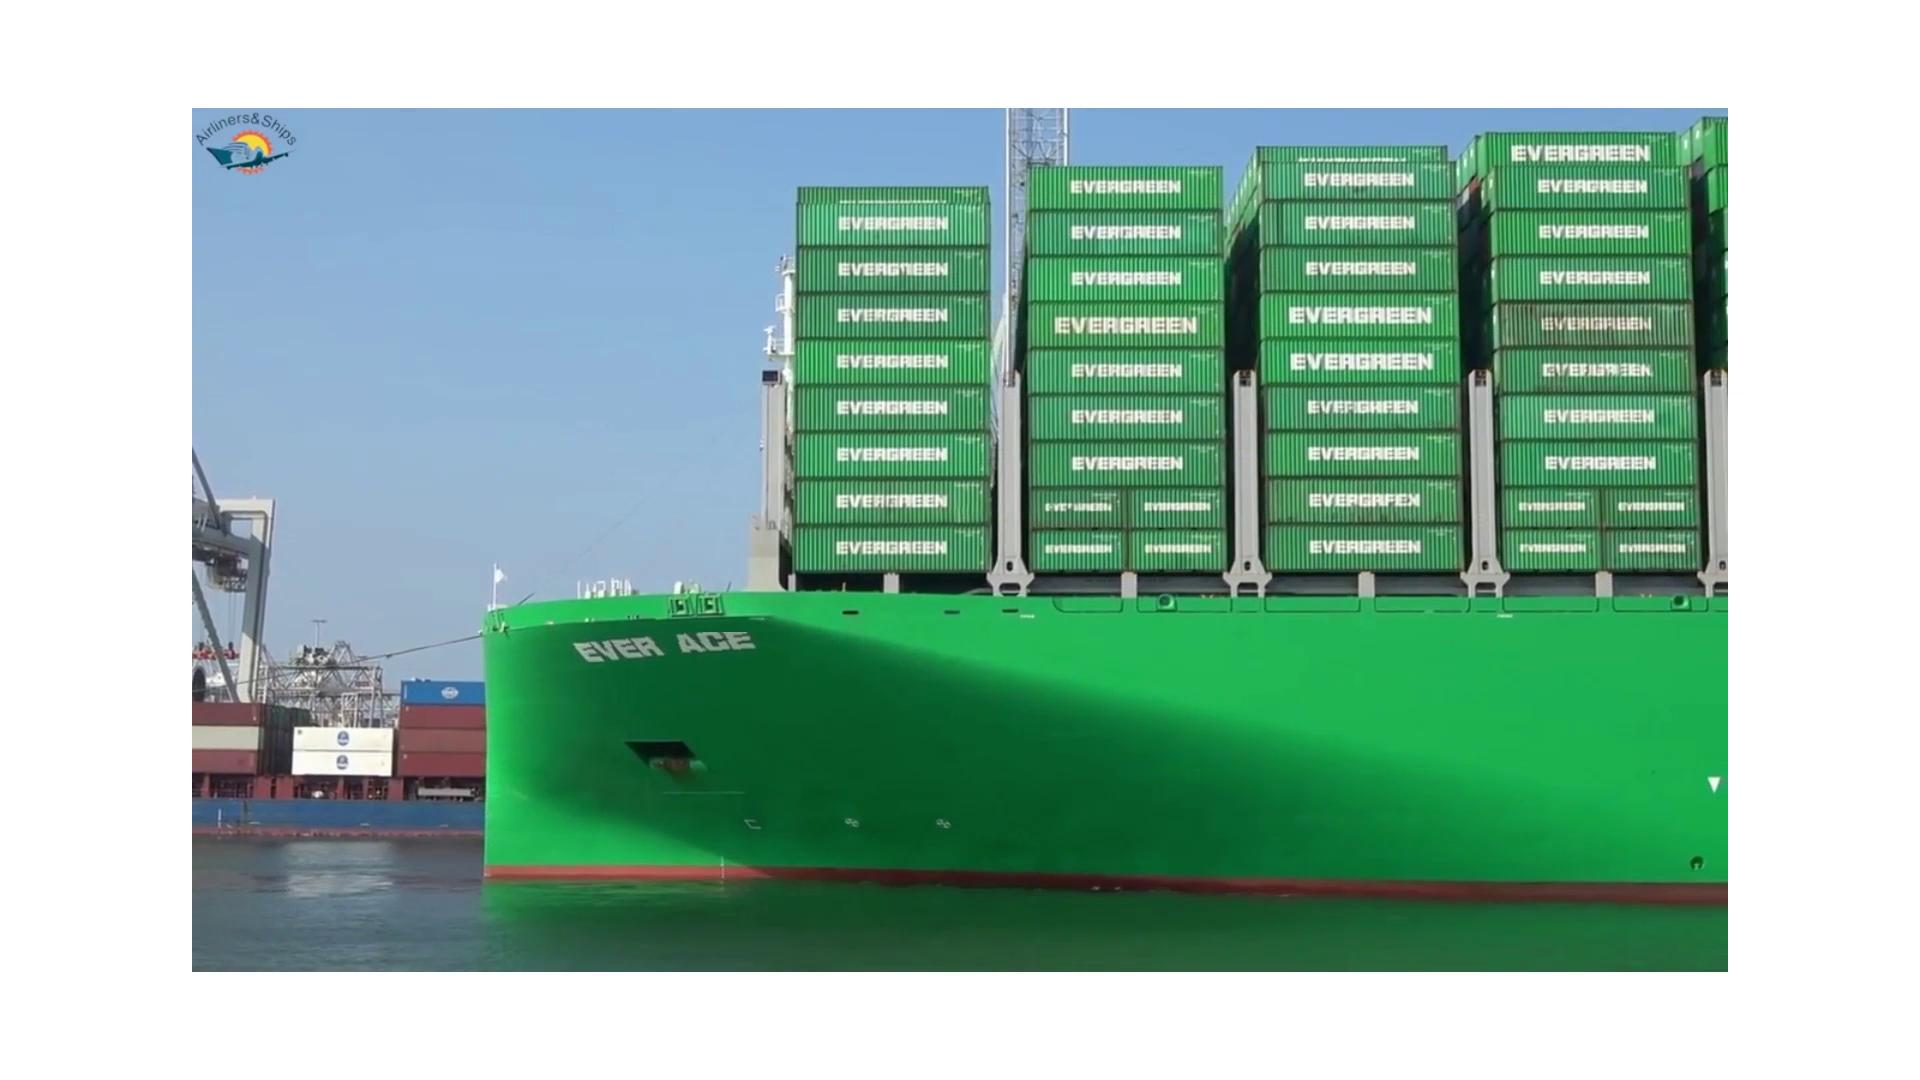OCR: (539, 632, 791, 683)
